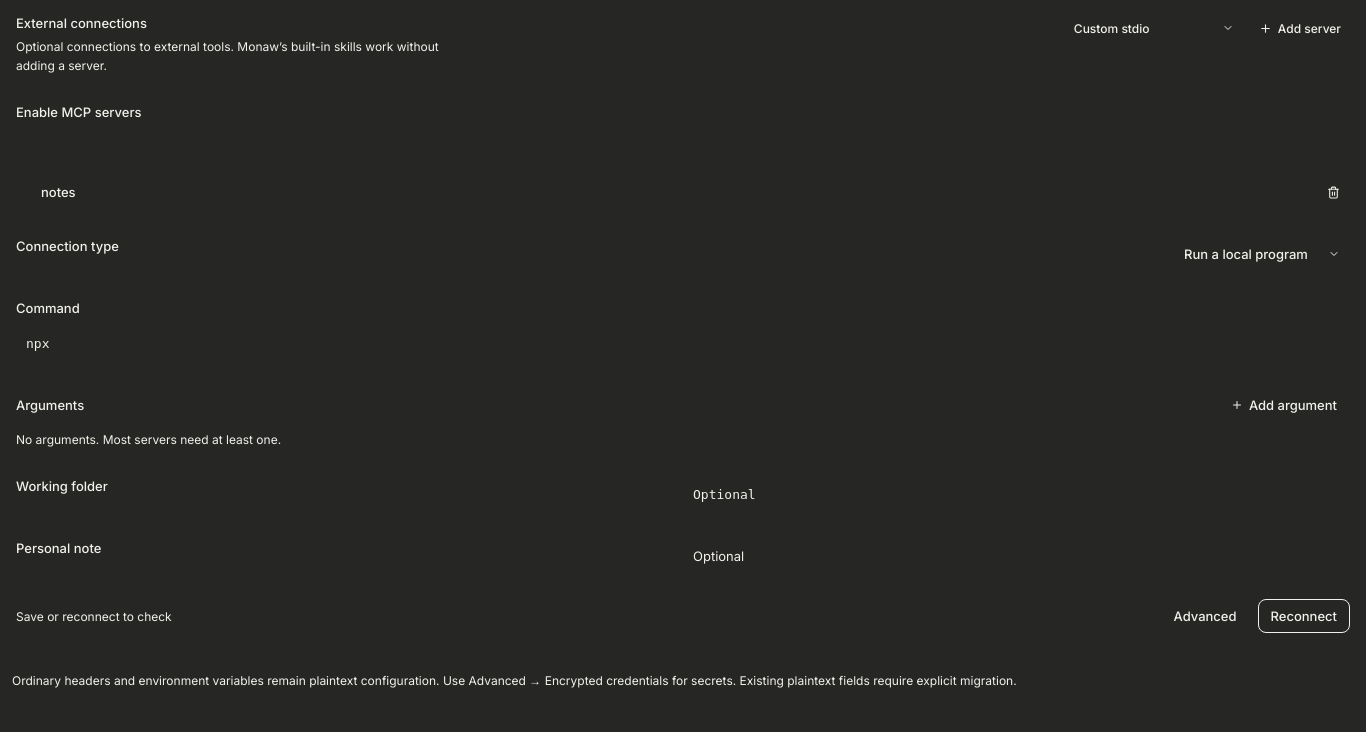
Test: McpSettings › adds, edits and removes servers in the MCP slice only
The image size is (1366, 732).
Click the button "Add server" at [1300, 28], box x1=1250 y1=14 x2=1350 y2=42
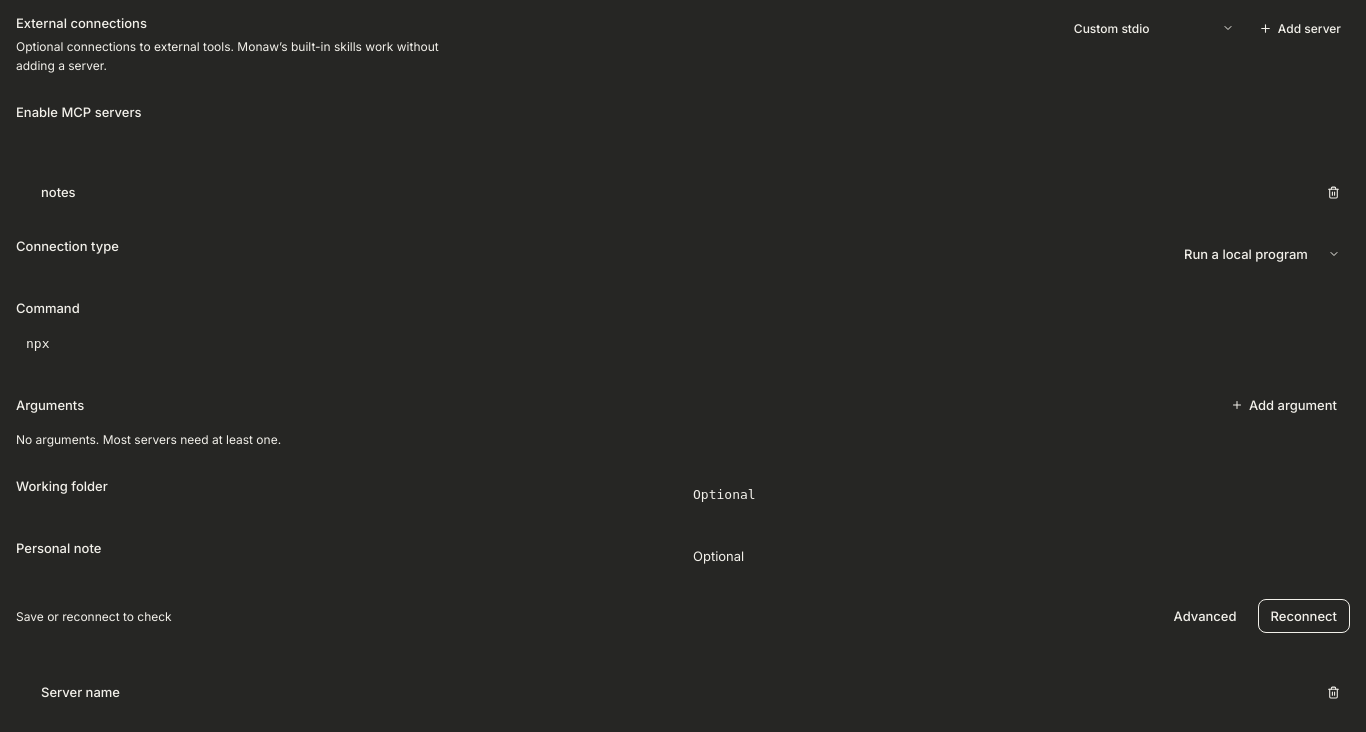
Type "notes" into the field named "Server name 2" at [648, 692], box x1=31 y1=675 x2=1266 y2=709
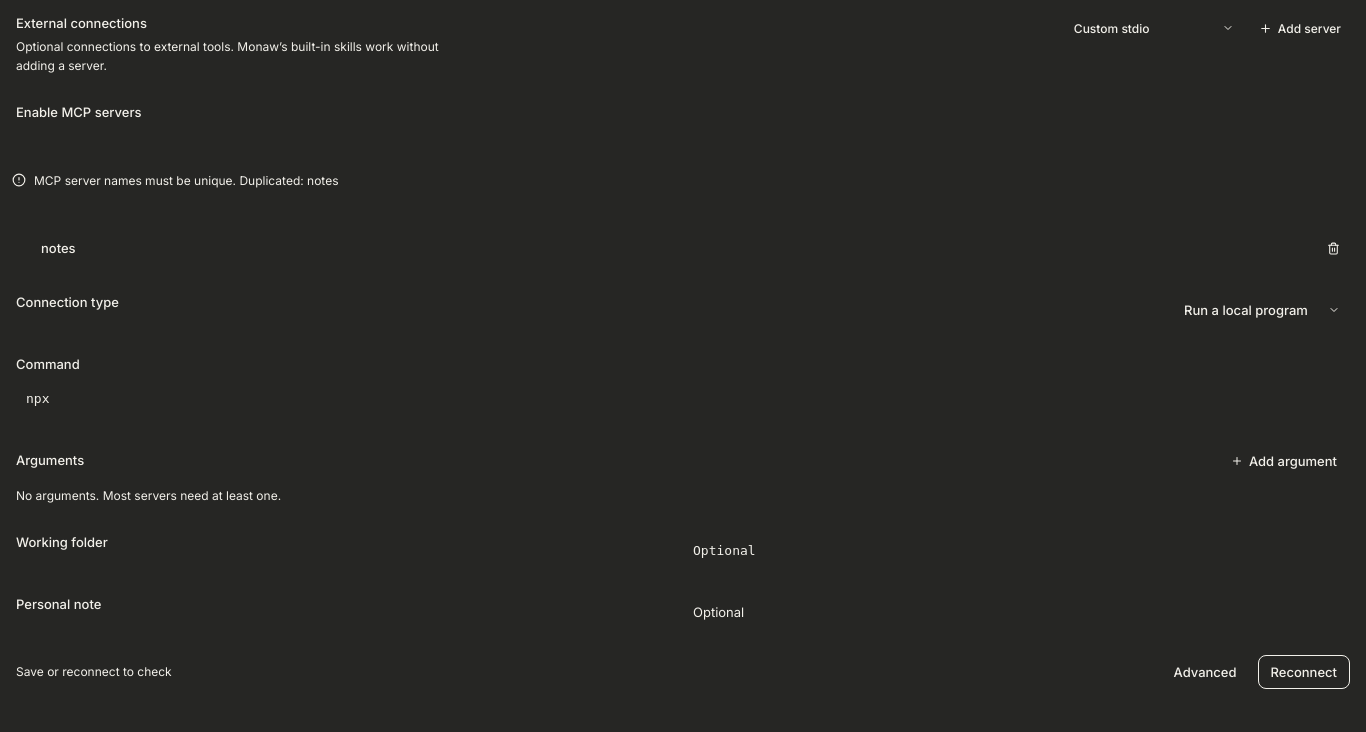
Expected: the text "MCP server names must be unique. Duplicated: notes" is shown, x1=34 y1=171 x2=338 y2=191
Click the button named "Remove MCP server 1" at [1333, 248], box x1=1316 y1=231 x2=1350 y2=265
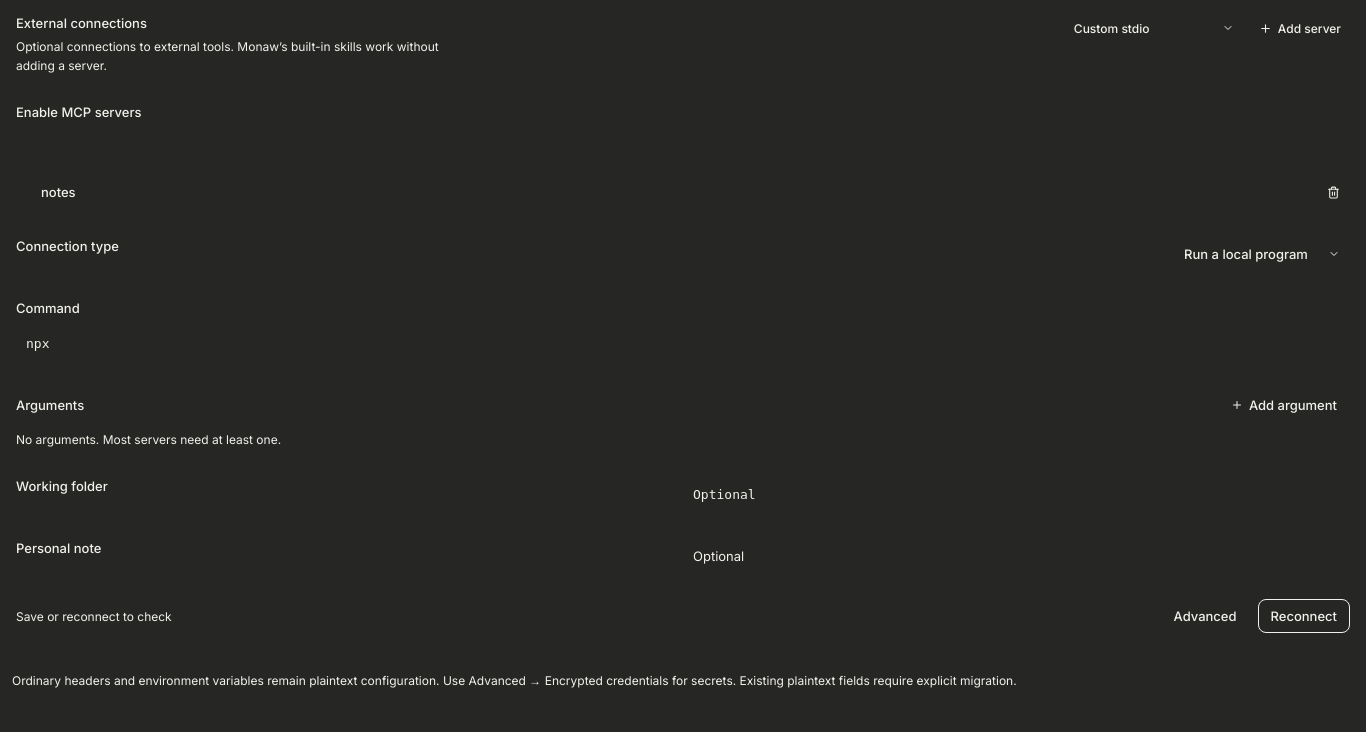
Expected: the text "must be unique" is gone
